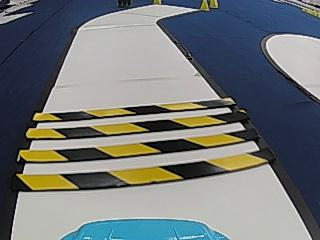bump: (26, 93, 267, 196)
